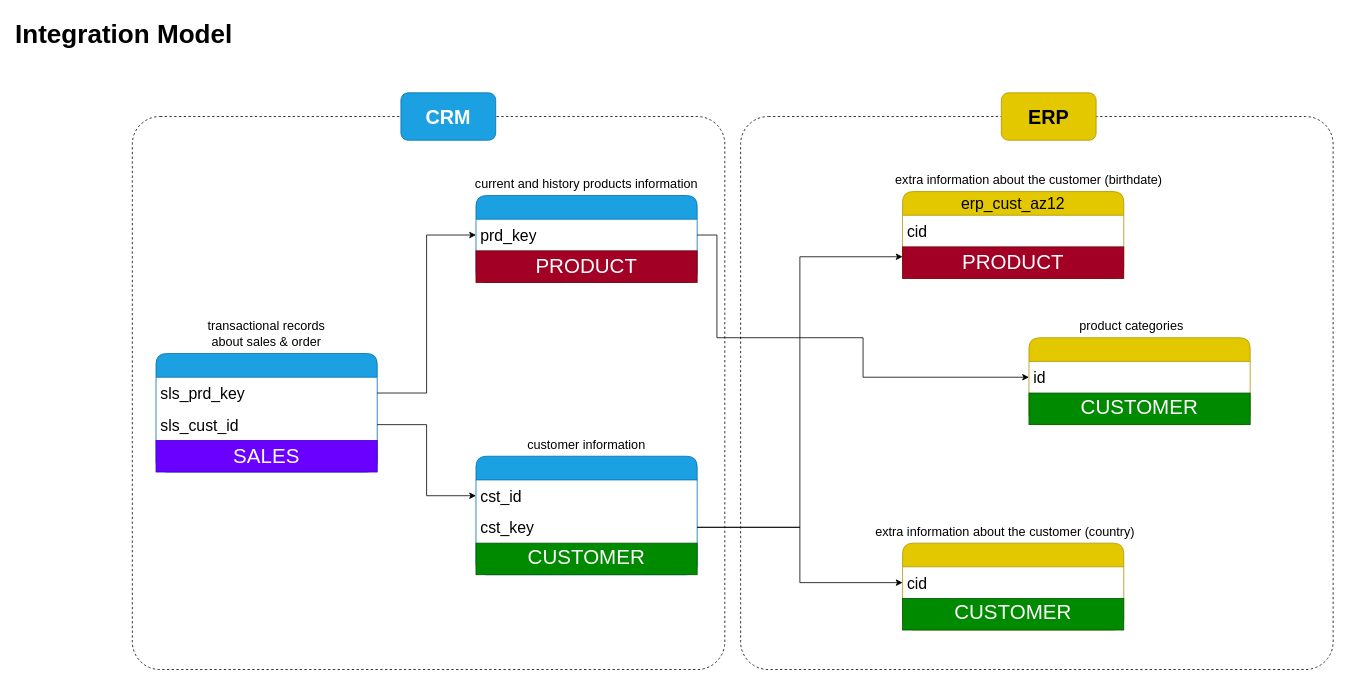
This 1347x683 diagram has some shape labels left out. The shapes that lost their labels are listed below. From the top down, each one's box as (x1, y1, x2, y2) in pixels, then its label:
(475, 195, 697, 282): crm_prd_info
(1028, 337, 1250, 425): erp_px_cat_g1v2
(155, 353, 377, 472): crm_sales_details
(475, 455, 697, 575): crm_cust_info
(902, 542, 1124, 630): erp_loc_a101
